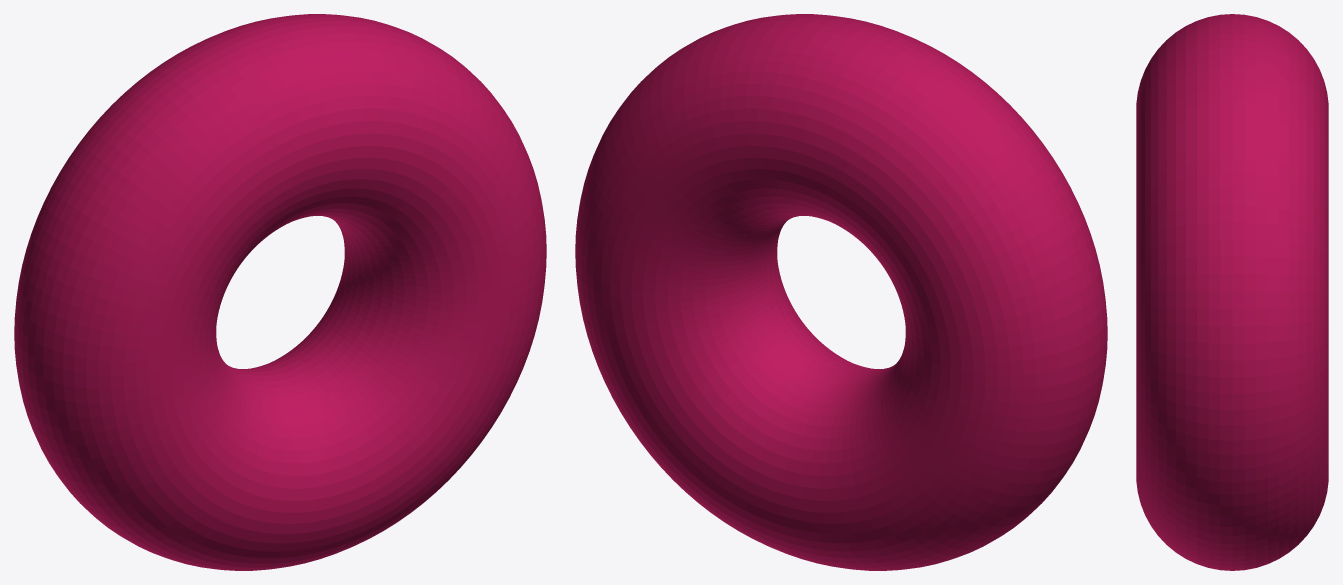
3 renders of one model, left to right at view 1: azimuth 30°, elevation 25°; view 2: azimuth 150°, elevation 25°; view 3: azimuth 270°, elevation 25°, orthographic. The views are drawn at different scales.
Parts seen in each view (by area): view 1: world; view 2: world; view 3: world.
Part boxes in pixels (x1=…): world: x1=14, y1=14, x2=546, y2=570; world: x1=575, y1=14, x2=1107, y2=570; world: x1=1136, y1=14, x2=1328, y2=570.
Bounding box in the file's own units: 28.89 × 28.89 × 9.98.
